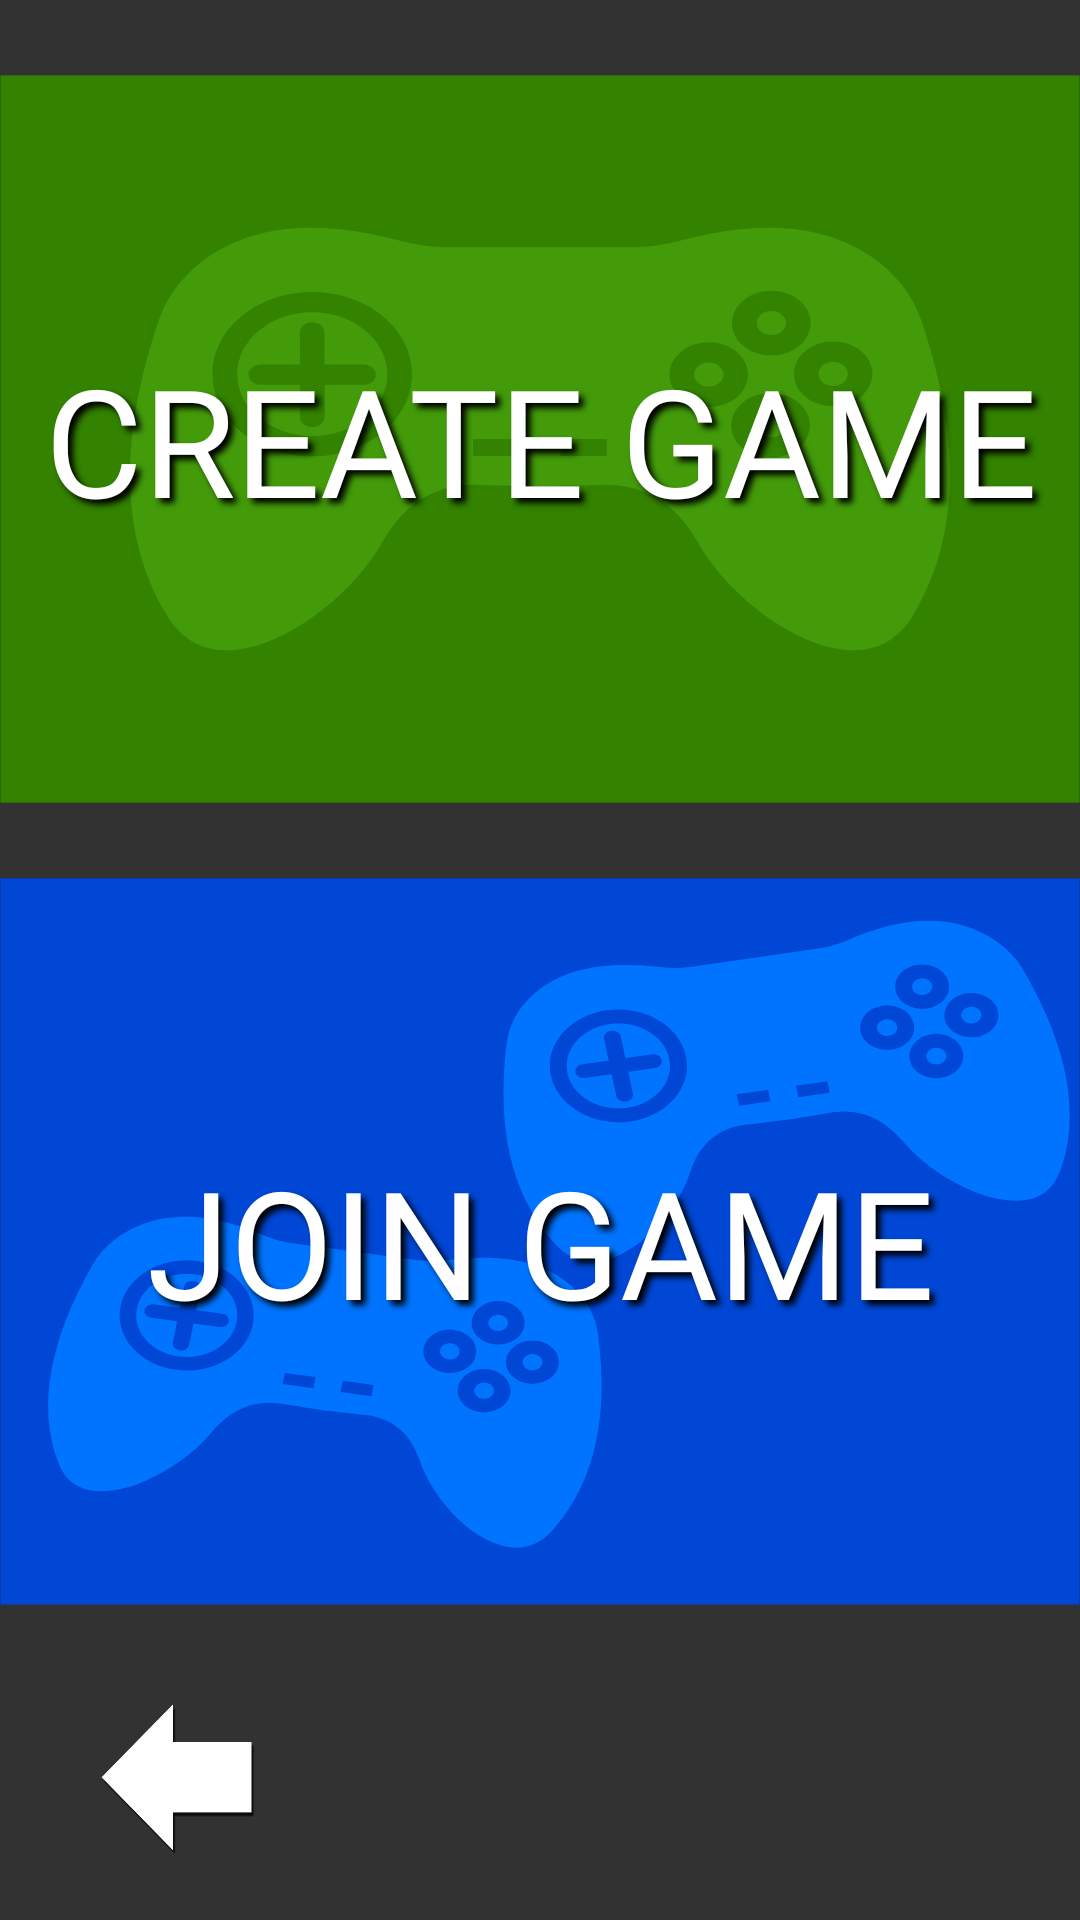

Icons on this 1080 × 1920 Android screen, each with its box as (x1, y1, x2, y2):
helper exit: (101, 1705, 253, 1852)
